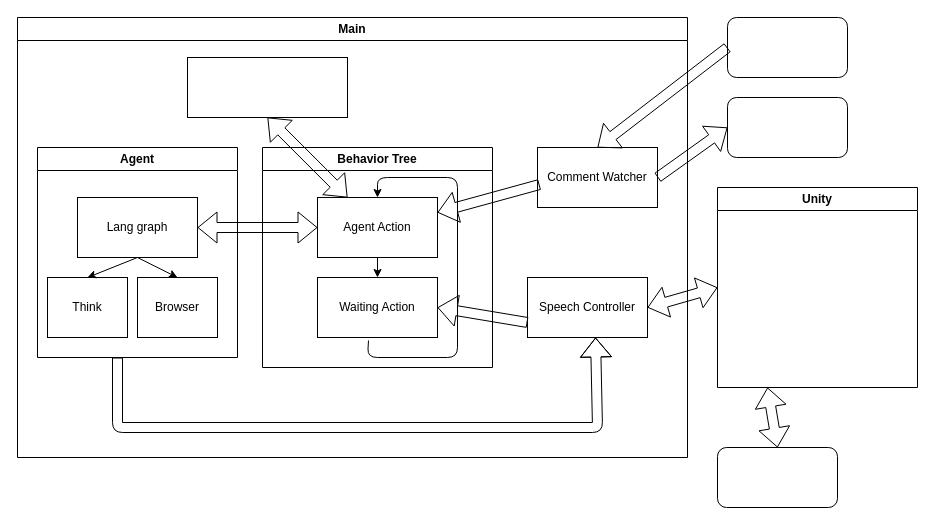
The diagram is 935 pixels wide and 525 high, and some of its shapes have lost their labels. The box of each missing label's shape, as (x1, y1, x2, y2) in pixels:
Avis: (716, 446, 838, 508)
Embedding Engine: (186, 56, 348, 118)
Youtube API: (726, 16, 848, 78)
棒読みちゃん: (726, 96, 848, 158)
